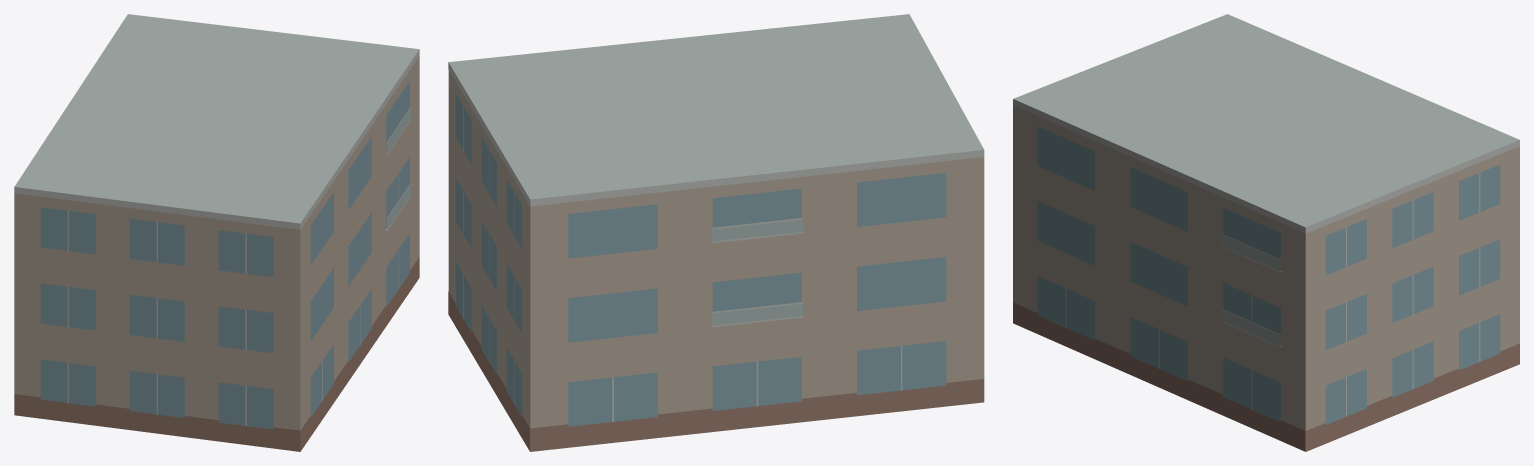
Rendered from survey-upis-32758110.glb.
3 views of the same model, side by side, from view 1: azimuth 30°, elevation 25°; view 2: azimuth 150°, elevation 25°; view 3: azimuth 270°, elevation 25° (orthographic). The views are drawn at different scales.
Visible parts, largest first — view 1: survey-upis-32758110.tmp; view 2: survey-upis-32758110.tmp; view 3: survey-upis-32758110.tmp.
Boxes of the visible parts, x1=… form: survey-upis-32758110.tmp: x1=14, y1=14, x2=419, y2=451; survey-upis-32758110.tmp: x1=448, y1=14, x2=984, y2=451; survey-upis-32758110.tmp: x1=1013, y1=14, x2=1519, y2=451.
Bounding box in the file's own units: 17.96 × 8.8 × 18.02.
